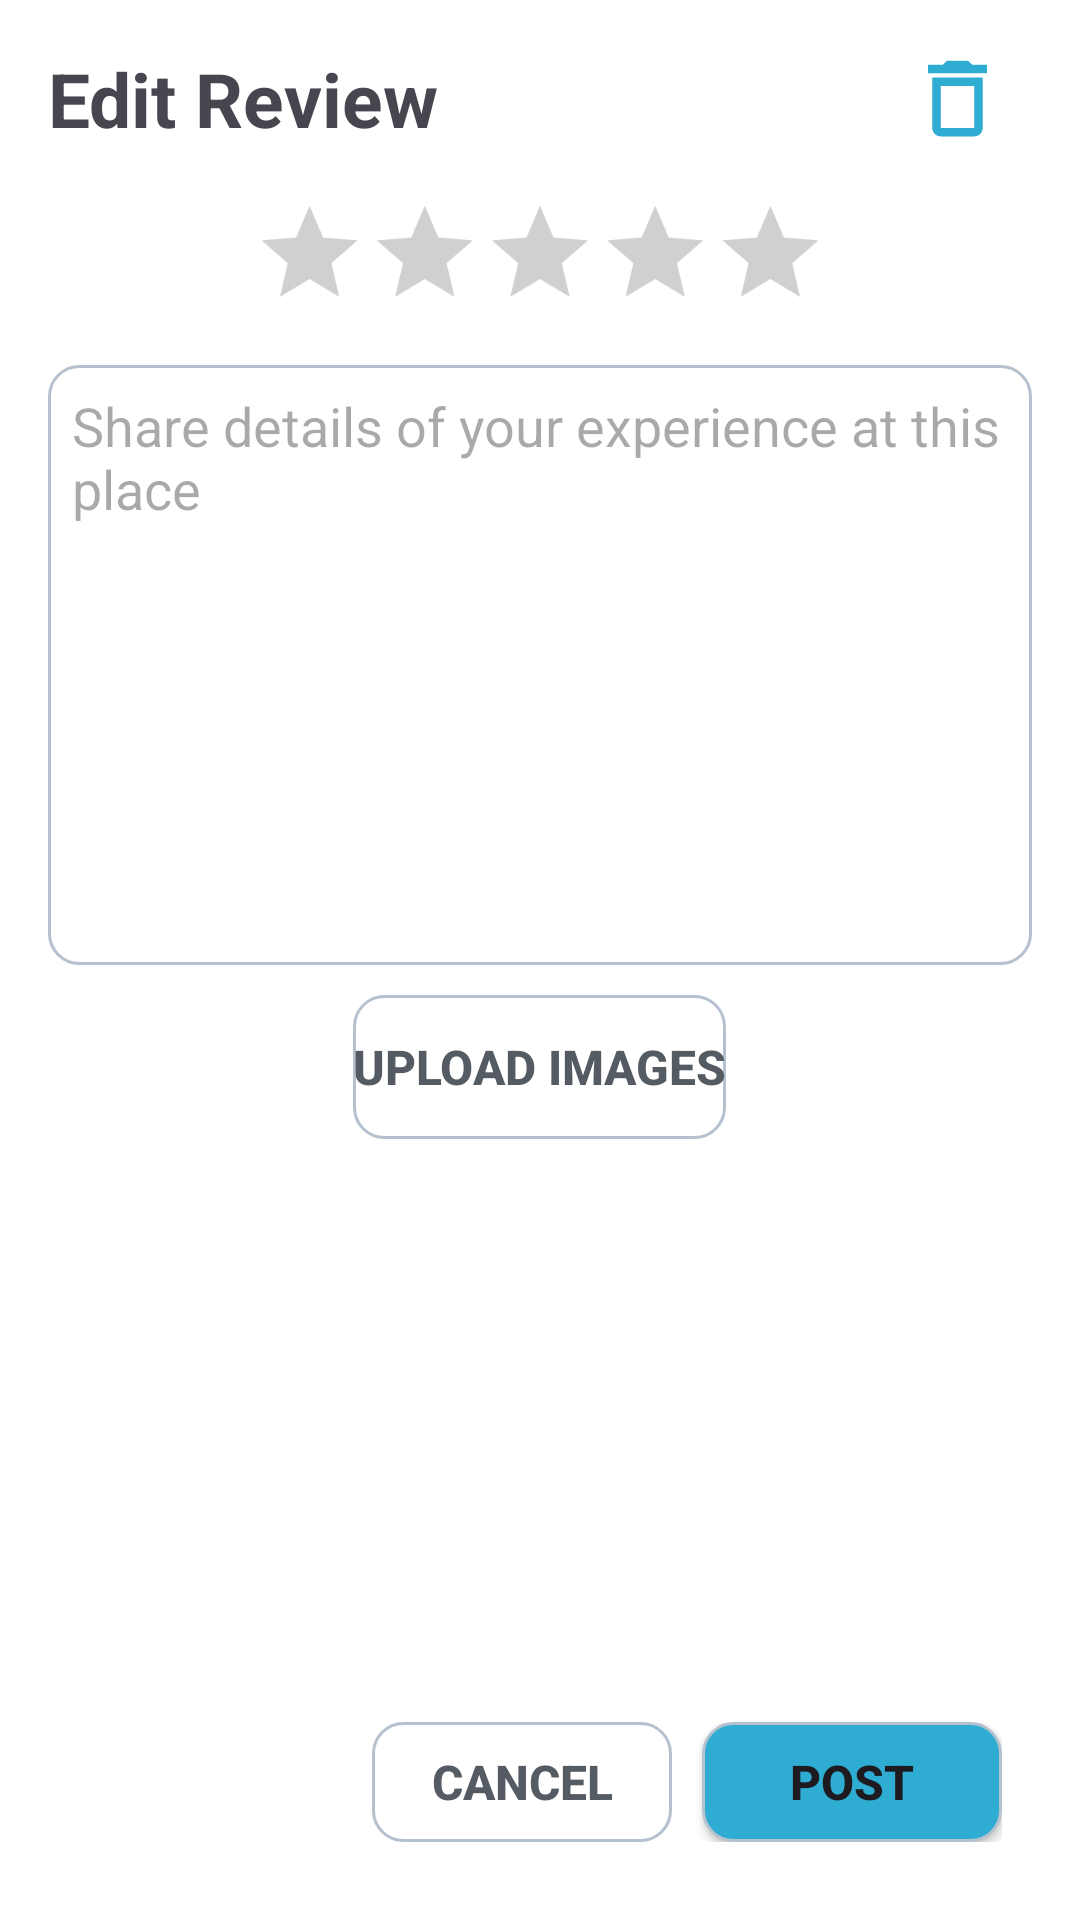

Where to tap for icons on this 1080*1920 app screen, as [x,y]:
delete: [957,98]
